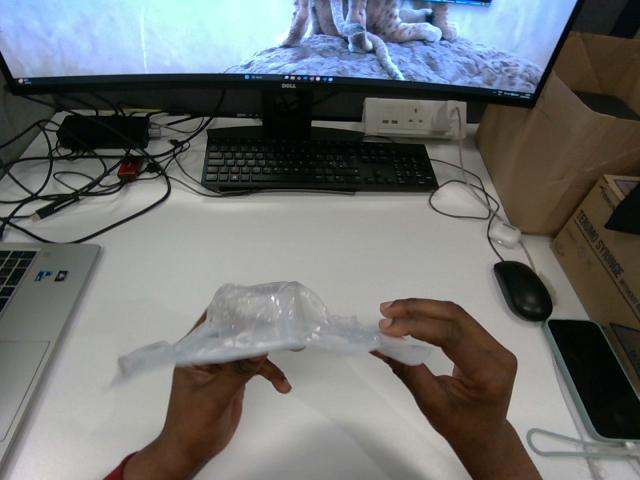gallipot: (115, 282, 430, 381)
